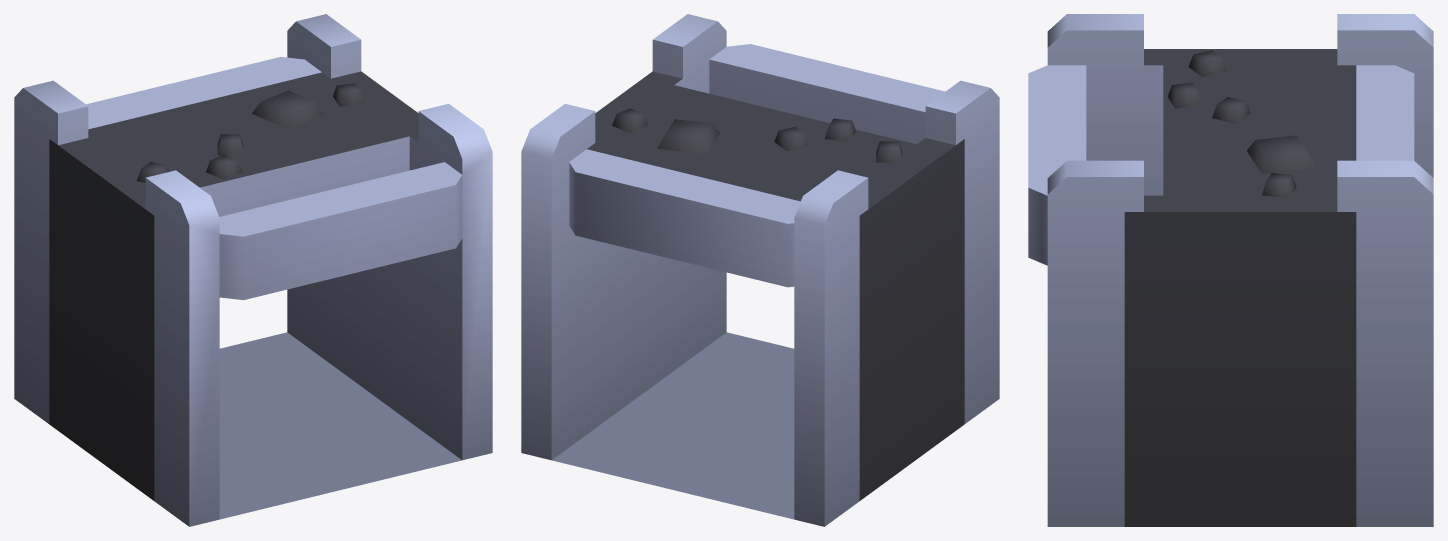
Rendered from wall-opening.glb.
3 renders of one model, left to right at view 1: azimuth 30°, elevation 25°; view 2: azimuth 150°, elevation 25°; view 3: azimuth 270°, elevation 25°, orthographic. The views are drawn at different scales.
Parts seen in each view (by area): view 1: wall-opening; view 2: wall-opening; view 3: wall-opening.
Boxes of the visible parts, x1,y1,x2,y2 form: wall-opening: (14,14,492,526); wall-opening: (521,14,999,526); wall-opening: (1028,14,1433,526).
Size of the model in its own units: 1 by 1 by 1.05.
1 material, 1 textured.
